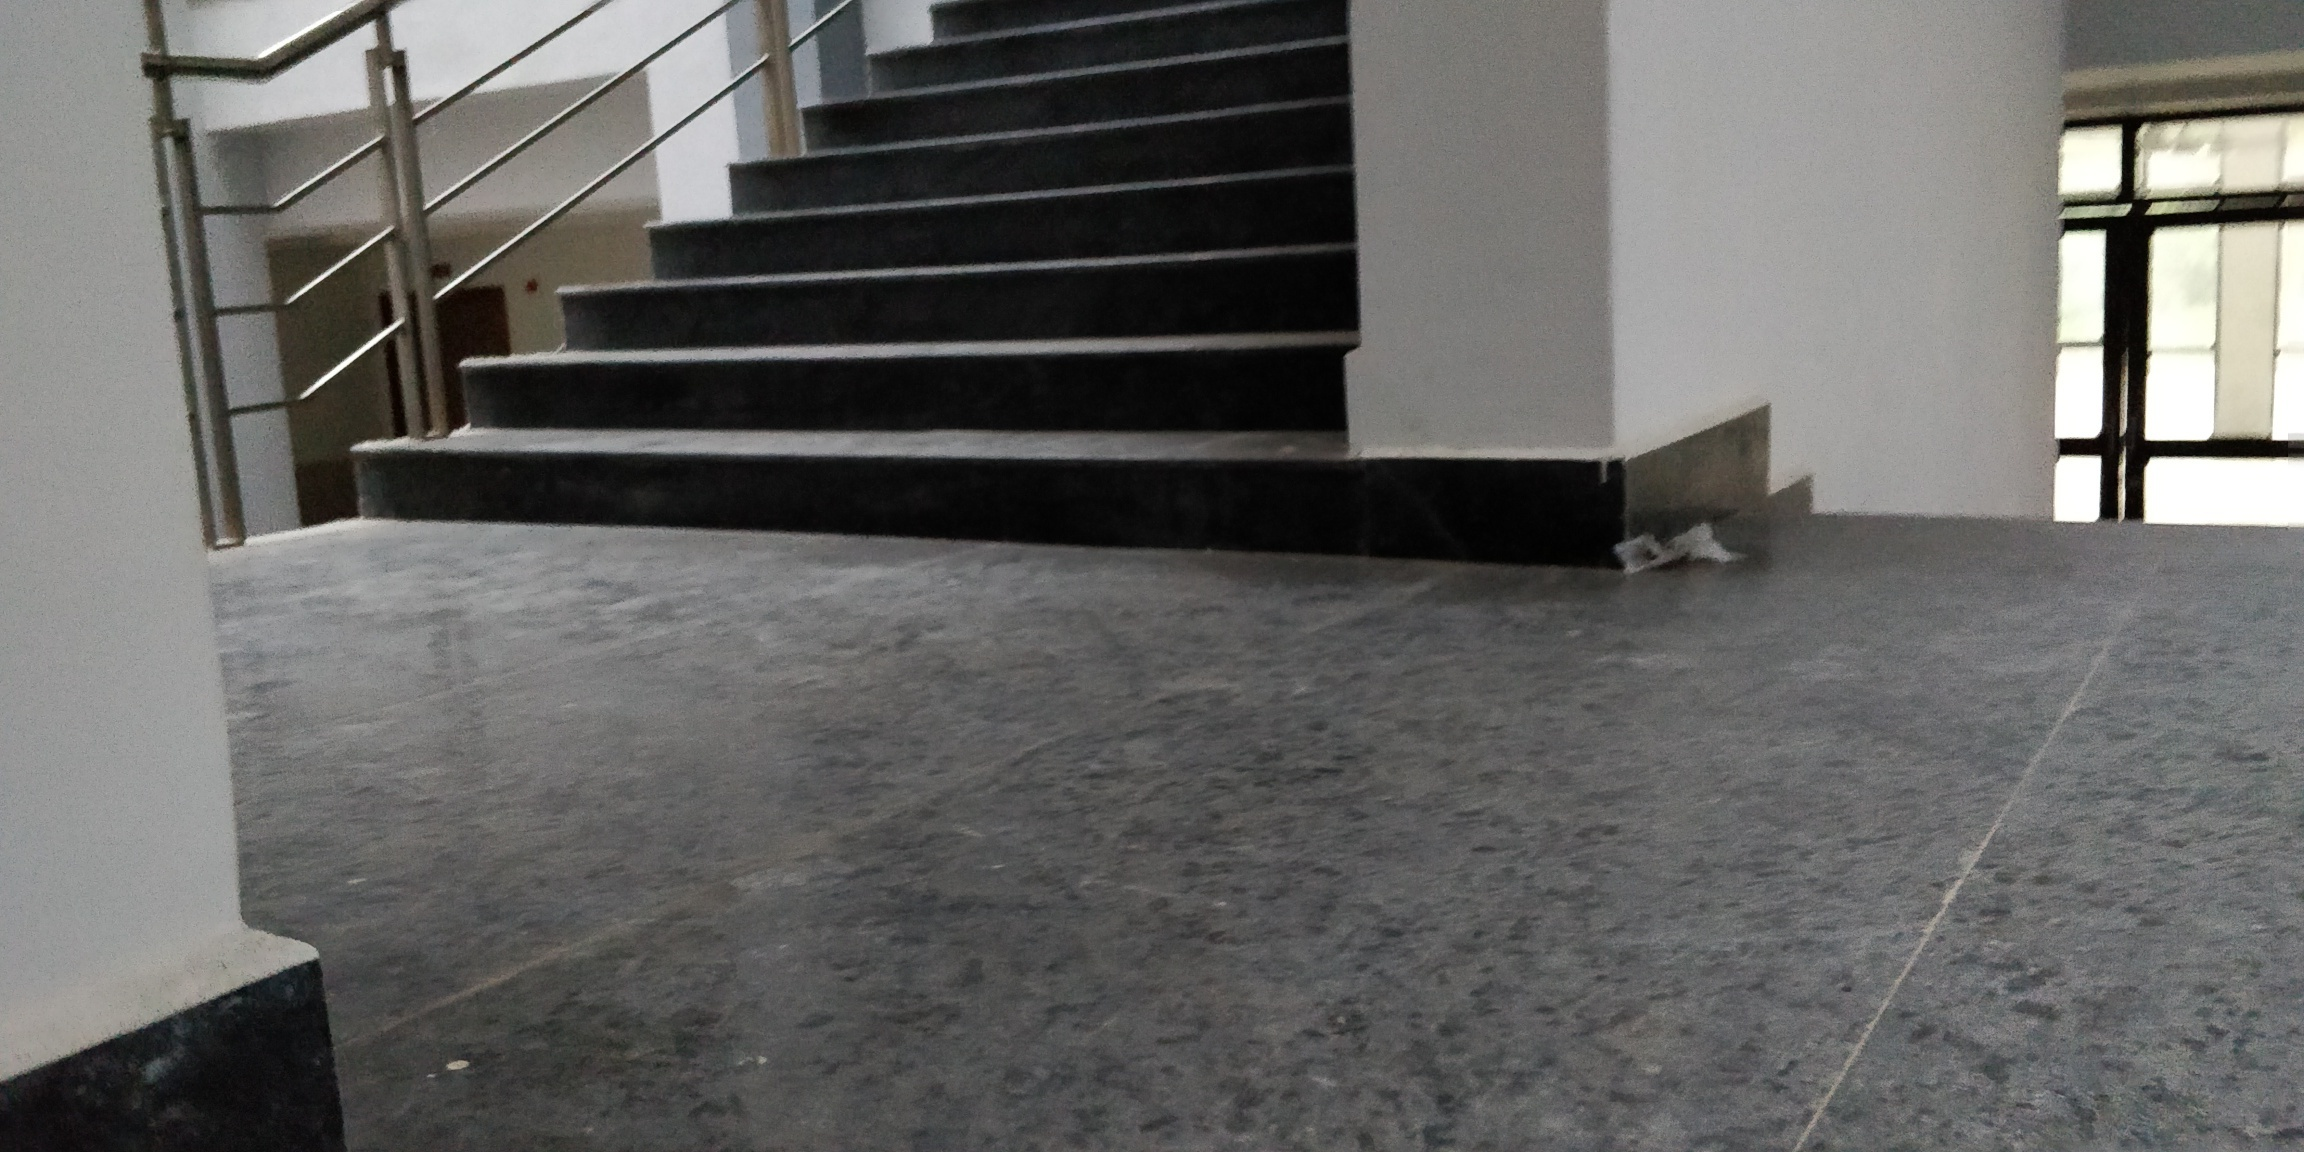stairs_up: (331, 7, 1331, 542)
